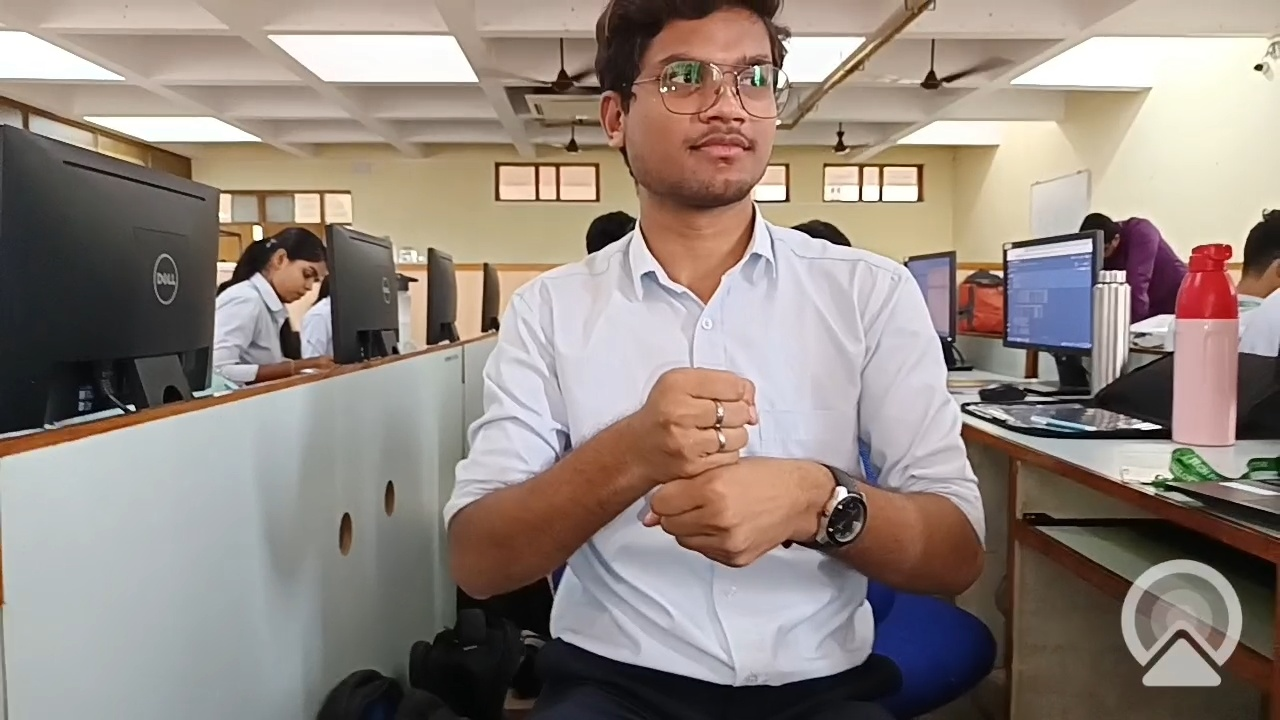G: (587, 339, 869, 589)
